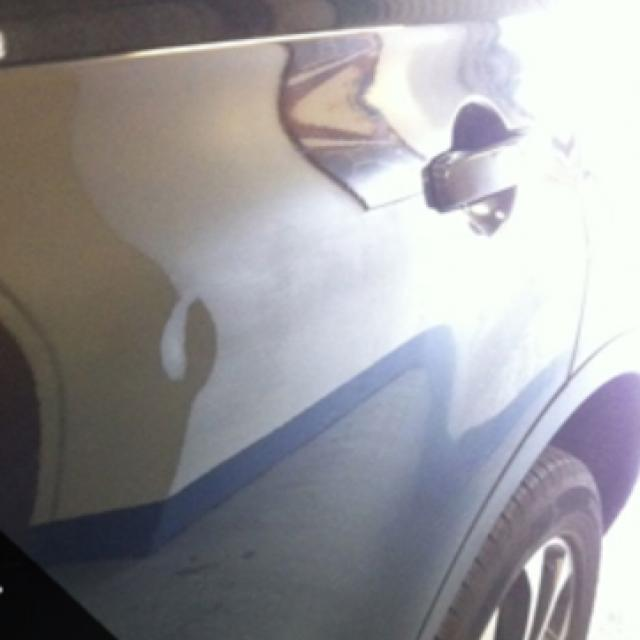dents: (151, 276, 238, 405)
